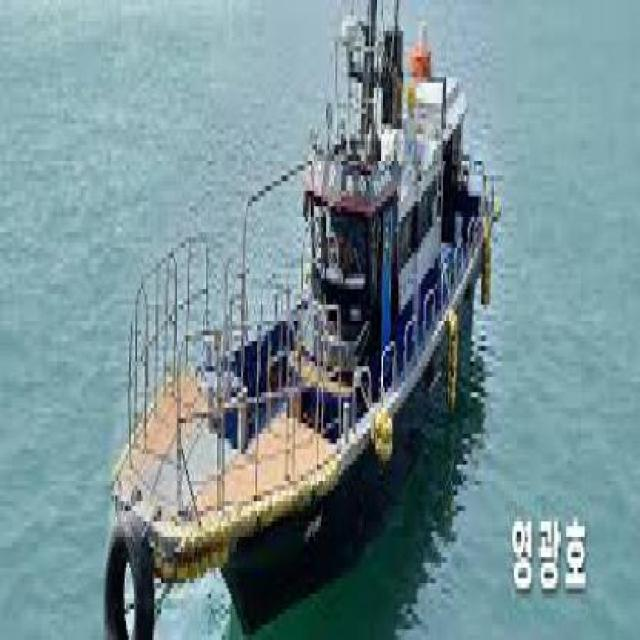fish-b: (100, 1, 512, 636)
